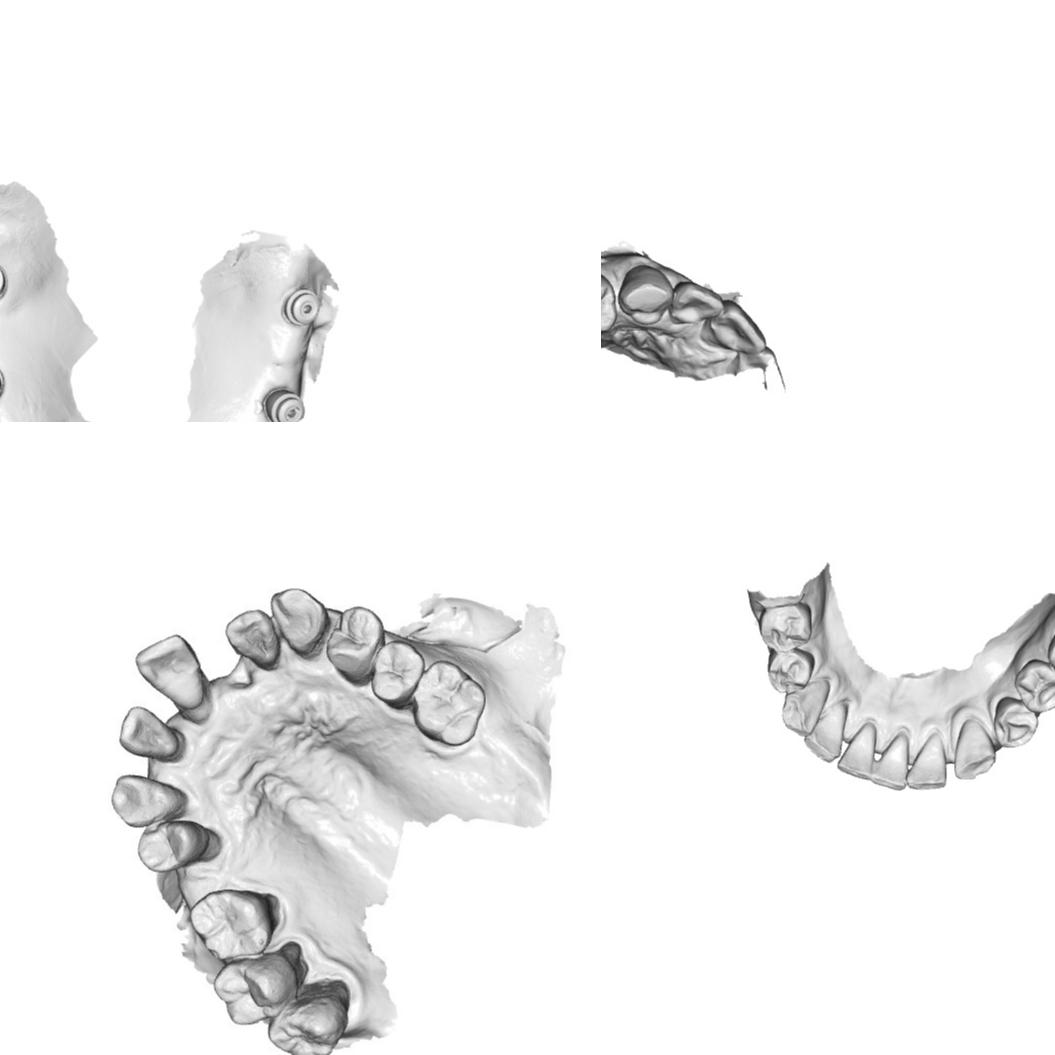canine: (615, 263, 675, 329), (269, 586, 324, 656), (110, 773, 179, 826), (779, 673, 831, 736), (953, 715, 998, 782)
implant: (282, 287, 321, 327)
implant_minus: (261, 385, 306, 422)
incisor: (134, 631, 208, 709), (698, 298, 769, 356), (118, 705, 178, 764), (801, 697, 851, 766), (227, 607, 281, 665), (667, 279, 726, 331), (904, 725, 949, 792), (833, 720, 880, 783), (867, 727, 910, 792)
molar: (409, 660, 482, 747), (193, 888, 277, 962), (215, 957, 290, 1029), (266, 986, 342, 1055)
premolar: (367, 637, 424, 706), (330, 608, 383, 682), (129, 821, 204, 872), (755, 600, 815, 657), (987, 693, 1039, 750), (1013, 657, 1055, 717), (764, 648, 816, 696), (601, 267, 620, 335)
